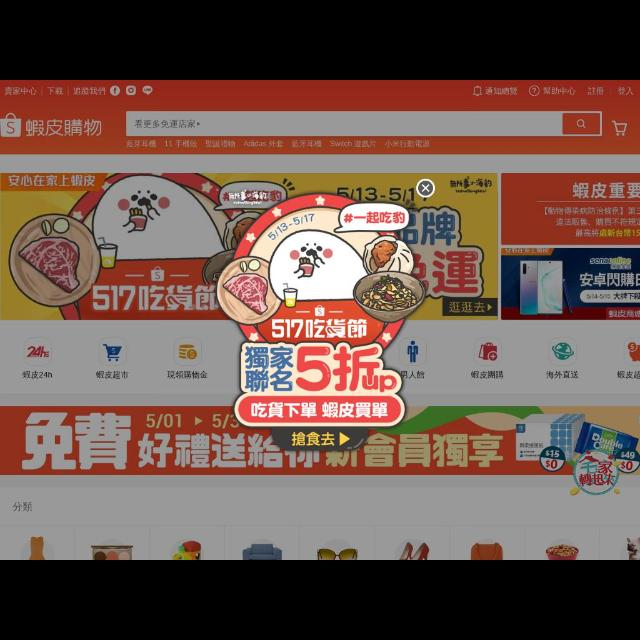button: (99, 338, 128, 366), (473, 338, 502, 366), (24, 338, 52, 366), (174, 338, 202, 366), (549, 338, 577, 366), (399, 337, 426, 365), (564, 114, 600, 134), (625, 339, 639, 365)
icon: (1, 113, 22, 137), (611, 120, 627, 136), (530, 85, 540, 96), (110, 86, 120, 96), (126, 86, 136, 96), (142, 85, 152, 95), (472, 86, 482, 96), (578, 120, 586, 128), (197, 122, 200, 126)
iframe: (502, 248, 638, 320)
image: (0, 174, 498, 320), (217, 178, 436, 450), (1, 406, 638, 496), (502, 173, 638, 244), (478, 342, 498, 362), (552, 343, 574, 361), (102, 344, 122, 362), (179, 344, 197, 360), (27, 347, 49, 358), (408, 342, 418, 362), (628, 342, 638, 362)
input: (127, 111, 603, 137)
text: (26, 120, 102, 136), (135, 120, 195, 128), (330, 140, 376, 148), (386, 140, 430, 148), (470, 370, 504, 380), (166, 371, 208, 379), (95, 370, 128, 380), (244, 140, 284, 148), (484, 86, 518, 95), (22, 370, 52, 380), (5, 86, 38, 95), (544, 86, 576, 95), (72, 87, 106, 95), (165, 140, 197, 148), (546, 370, 578, 378), (127, 140, 157, 148), (206, 140, 236, 148), (292, 140, 322, 148), (617, 370, 639, 380), (400, 371, 424, 379), (587, 87, 605, 95), (48, 87, 64, 95), (618, 87, 634, 95)
toolbar: (1, 80, 639, 154)
